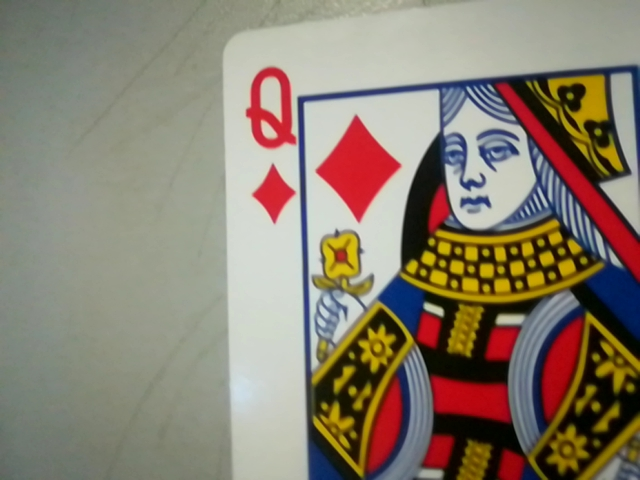fk q: (237, 53, 306, 229)
